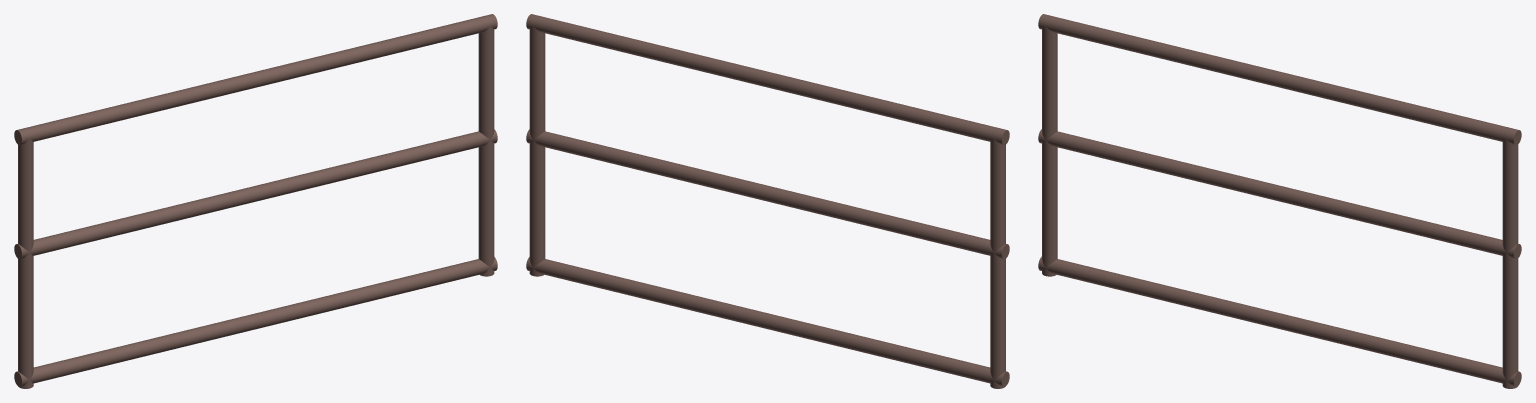
File: RustedRail.fbx
The picture shows the model from 3 angles, left to right: view 1: azimuth 30°, elevation 25°; view 2: azimuth 150°, elevation 25°; view 3: azimuth 330°, elevation 25°; orthographic projection.
Visible parts, largest first — view 1: pCylinder4; view 2: pCylinder4; view 3: pCylinder4.
Part boxes in pixels (box(x1,y1,x2,y2)): pCylinder4: box(14, 14, 497, 388); pCylinder4: box(526, 14, 1009, 388); pCylinder4: box(1038, 14, 1521, 388).
Size of the model in its own units: 85.63 by 44.2 by 2.44.
